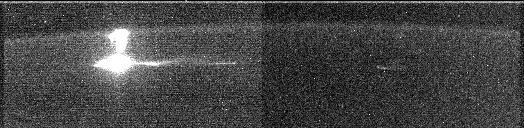positive: (105, 27, 132, 54)
